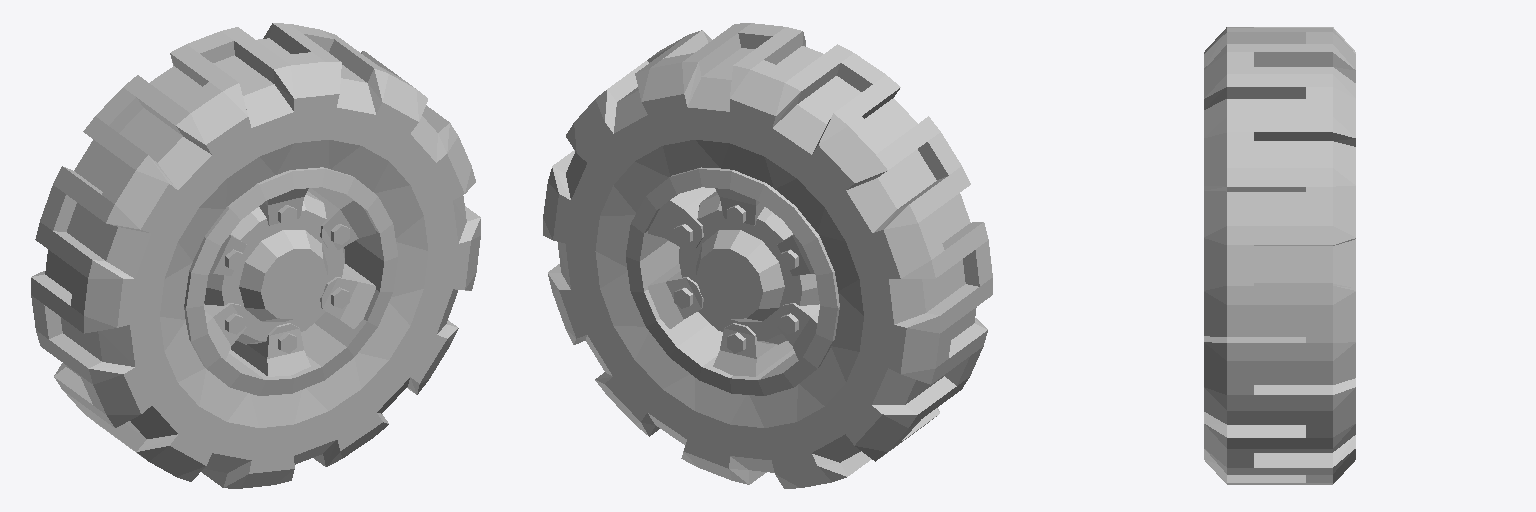
The model's file is obj_interactive_fant_offroad_wheel_10.obj.
The picture shows the model from 3 angles: view 1: azimuth 30°, elevation 25°; view 2: azimuth 150°, elevation 25°; view 3: azimuth 270°, elevation 25°; orthographic projection.
Visible parts, largest first — view 1: obj_interactive_fant_offroad_wheel_10_Mesh; view 2: obj_interactive_fant_offroad_wheel_10_Mesh; view 3: obj_interactive_fant_offroad_wheel_10_Mesh.
Part boxes in pixels (x1,y1,x2,y2): obj_interactive_fant_offroad_wheel_10_Mesh: (31,23,480,488); obj_interactive_fant_offroad_wheel_10_Mesh: (543,23,992,488); obj_interactive_fant_offroad_wheel_10_Mesh: (1204,27,1355,484).
Size of the model in its own units: 9 by 9 by 3.